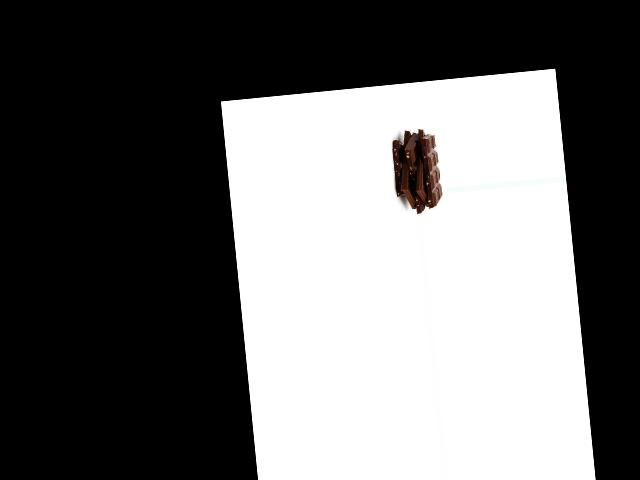chocolate: (386, 131, 424, 210)
